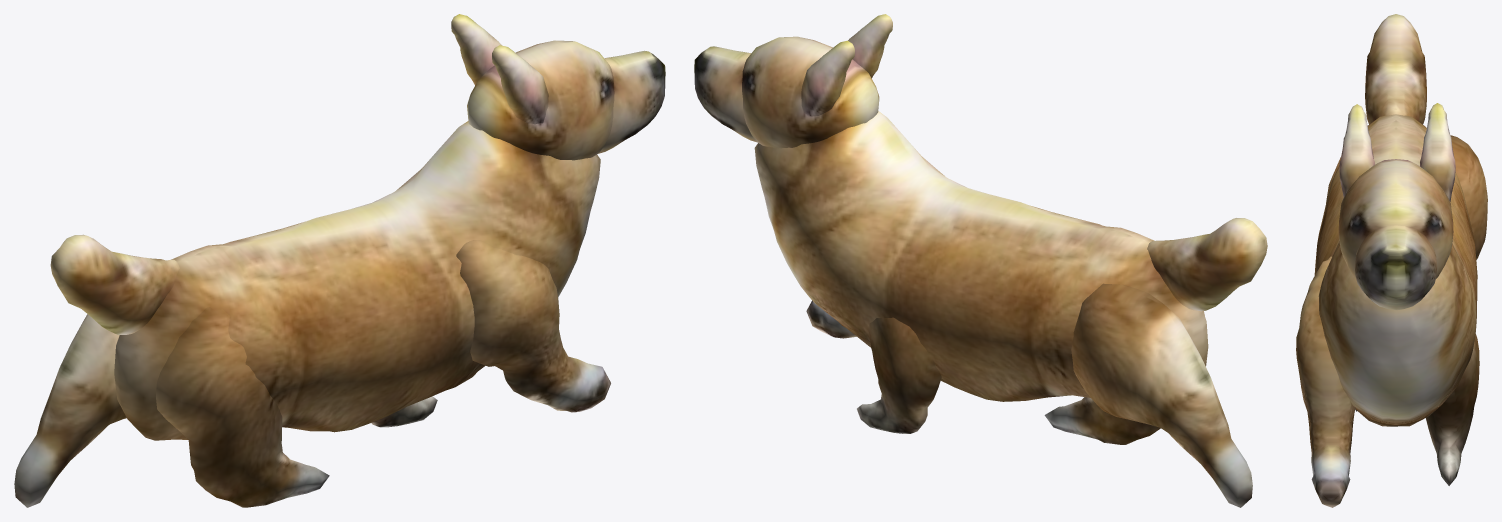
File: asset.glb
3 views of the same model, side by side, from view 1: azimuth 30°, elevation 25°; view 2: azimuth 150°, elevation 25°; view 3: azimuth 270°, elevation 25° (orthographic). The views are drawn at different scales.
Visible parts, largest first — view 1: Object_2; view 2: Object_2; view 3: Object_2.
Part boxes in pixels (<box>): Object_2: <box>14,14,665,507</box>; Object_2: <box>694,14,1267,507</box>; Object_2: <box>1296,14,1487,507</box>.
Bounding box in the file's own units: 1.2 × 0.7444 × 0.325.
1 material, 1 textured.
